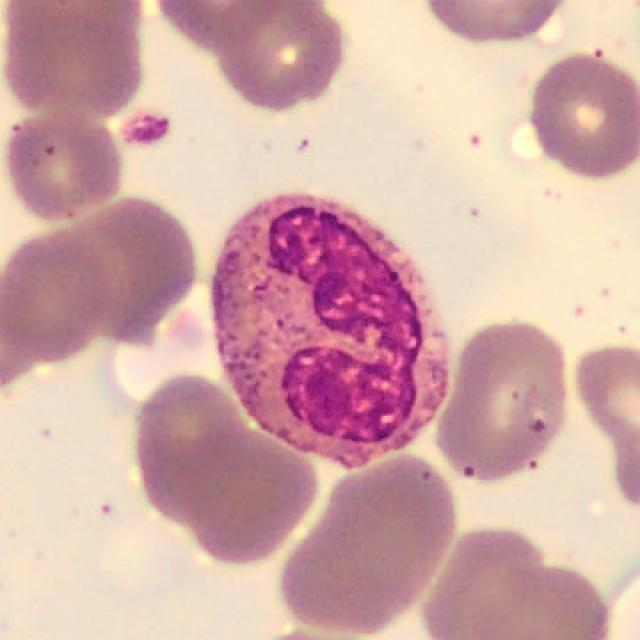Neutrofilo segmentado: (213, 194, 452, 471)
